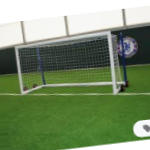goals: (11, 27, 129, 98)
